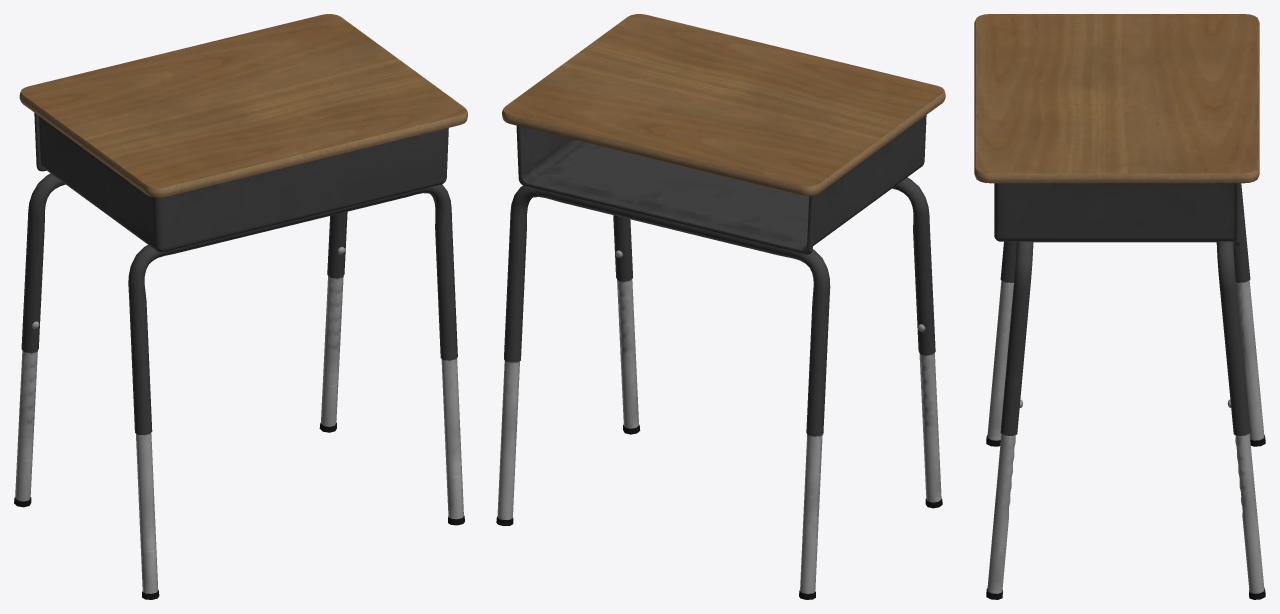
The model's file is SchoolDesk_01.glb.
3 views of the same model, side by side, from view 1: azimuth 30°, elevation 25°; view 2: azimuth 150°, elevation 25°; view 3: azimuth 270°, elevation 25° (orthographic). The views are drawn at different scales.
Parts seen in each view (by area): view 1: SchoolDesk_01; view 2: SchoolDesk_01; view 3: SchoolDesk_01.
Boxes of the visible parts, x1,y1,x2,y2 form: SchoolDesk_01: (14,14,467,599); SchoolDesk_01: (496,14,945,599); SchoolDesk_01: (974,14,1265,599).
Bounding box in the file's own units: 0.7117 × 0.8826 × 0.546.
Materials: 1 (1 with a texture image).
